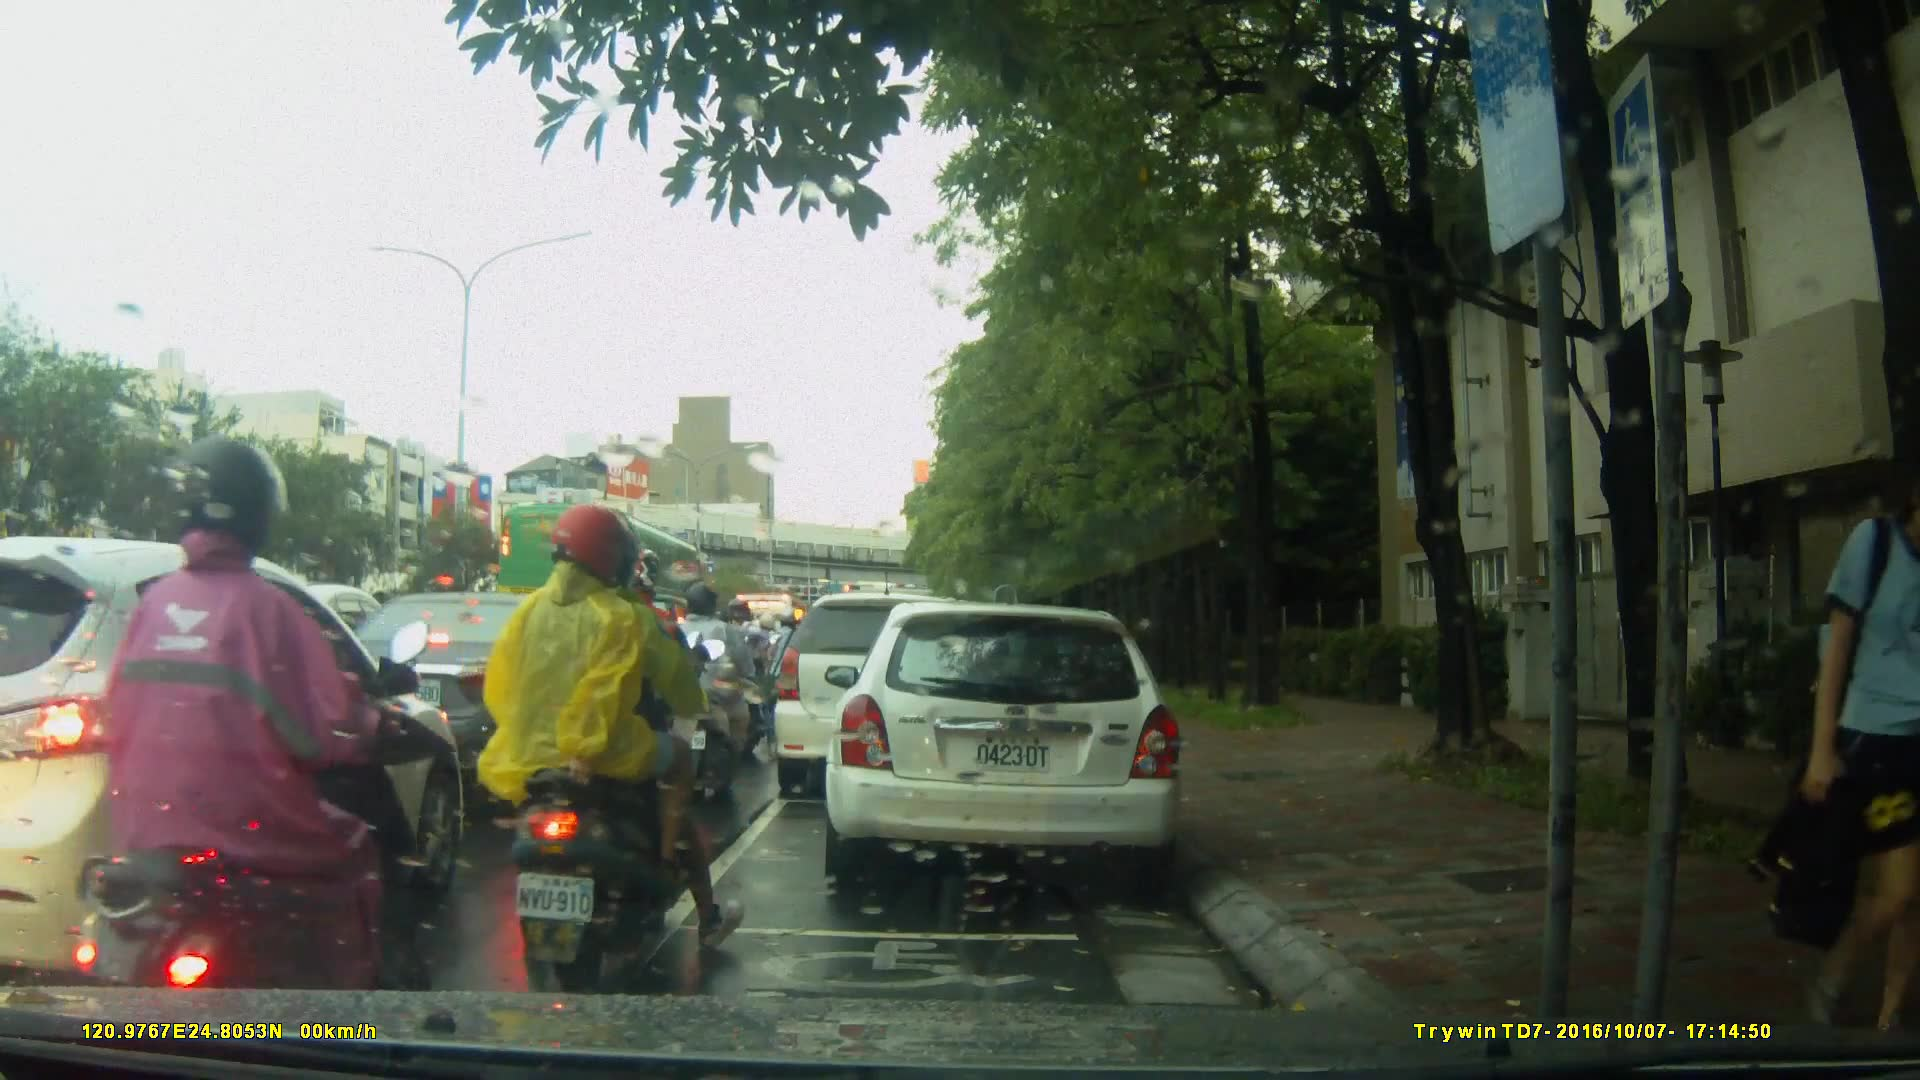pedestrian: (1774, 435, 1920, 1013)
rider: (79, 438, 445, 1064), (478, 507, 708, 983), (663, 586, 751, 797), (718, 593, 774, 757)
vehicle: (3, 534, 463, 988), (831, 592, 1196, 897), (319, 590, 629, 776), (770, 590, 999, 804), (495, 499, 709, 636)
